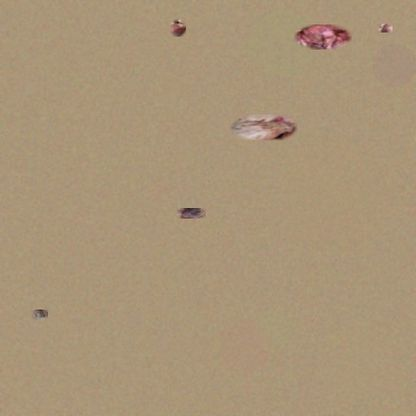damaged: (32, 310, 48, 320)
rotten: (230, 115, 297, 141), (294, 24, 352, 50), (177, 208, 206, 219)
sprouted: (171, 20, 186, 37), (378, 24, 392, 32)
